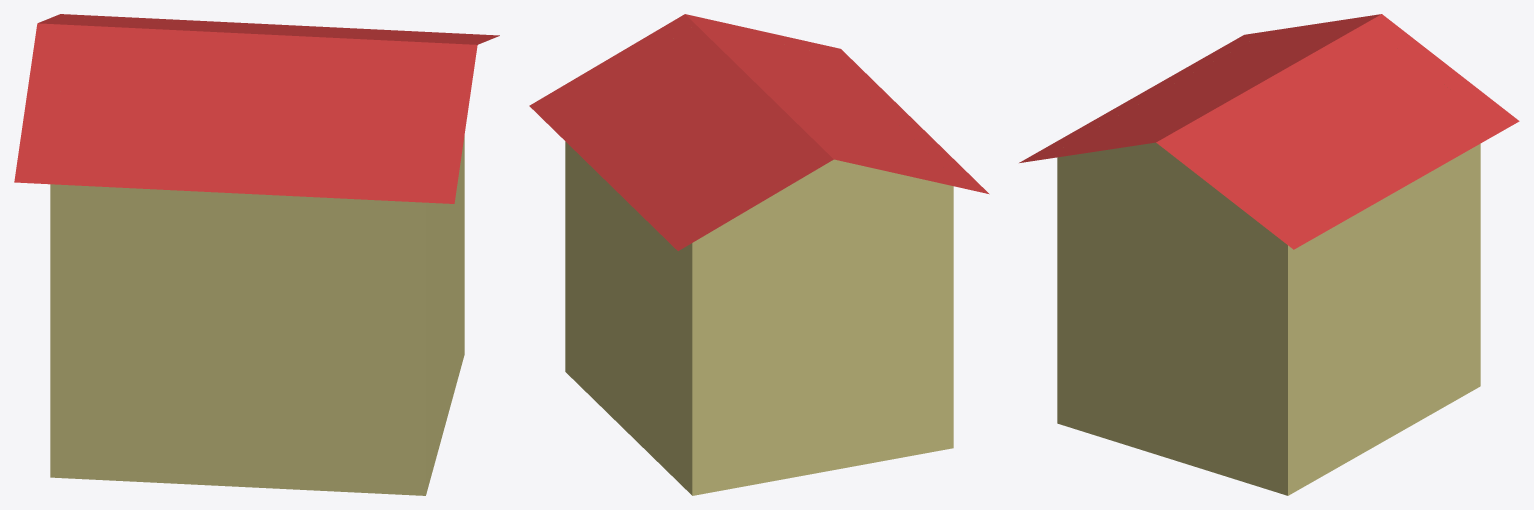
The picture shows the model from 3 angles, left to right: view 1: azimuth 30°, elevation 25°; view 2: azimuth 150°, elevation 25°; view 3: azimuth 270°, elevation 25°; orthographic projection. The views are drawn at different scales.
Visible parts, largest first — view 1: group_5, group_3, group_4; view 2: group_5, group_3, group_4; view 3: group_5, group_3, group_4.
Boxes of the visible parts, <box> form: group_5: <box>50,136,464,495</box>; group_3: <box>34,14,499,203</box>; group_4: <box>14,14,477,203</box>; group_5: <box>565,141,953,495</box>; group_3: <box>529,14,952,250</box>; group_4: <box>617,14,989,250</box>; group_5: <box>1057,142,1480,495</box>; group_3: <box>1058,14,1517,249</box>; group_4: <box>1019,14,1519,170</box>.
Bounding box in the file's own units: 18.23 × 17.97 × 12.91.
